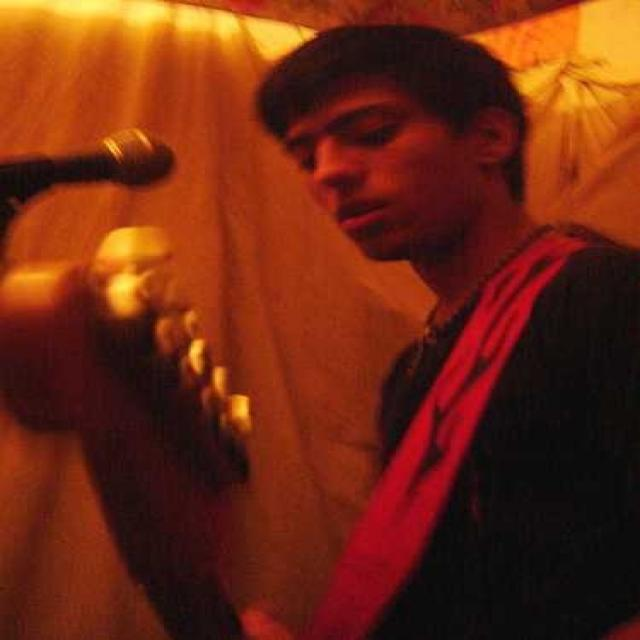microphone: (1, 127, 177, 203)
